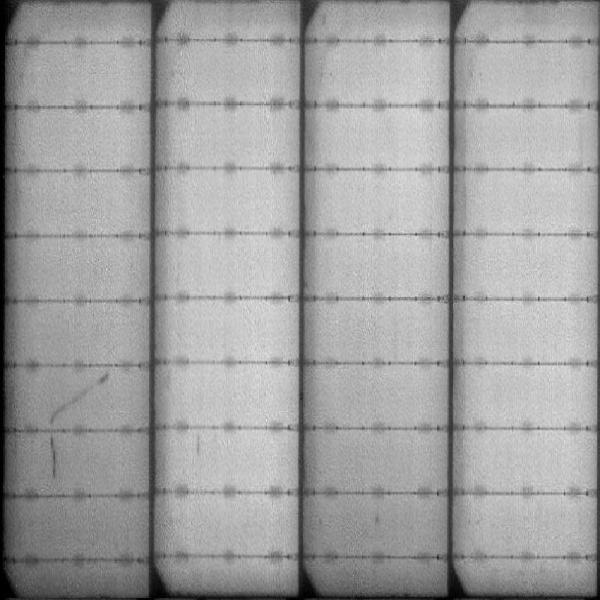scratch: (47, 373, 116, 422), (47, 434, 63, 484)
